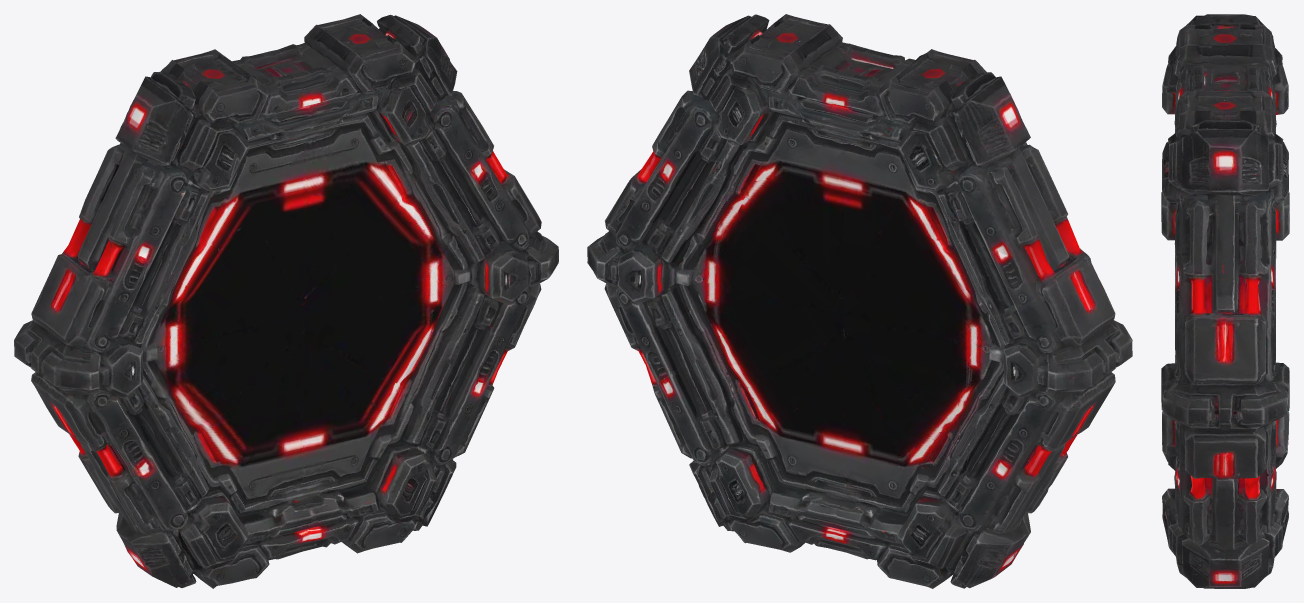
File: node_revenue_red.glb
3 views of the same model, side by side, from view 1: azimuth 30°, elevation 25°; view 2: azimuth 150°, elevation 25°; view 3: azimuth 270°, elevation 25° (orthographic). The views are drawn at different scales.
Bounding box in the file's own units: 2 × 1.9 × 0.4704.
1 material, 1 textured.
